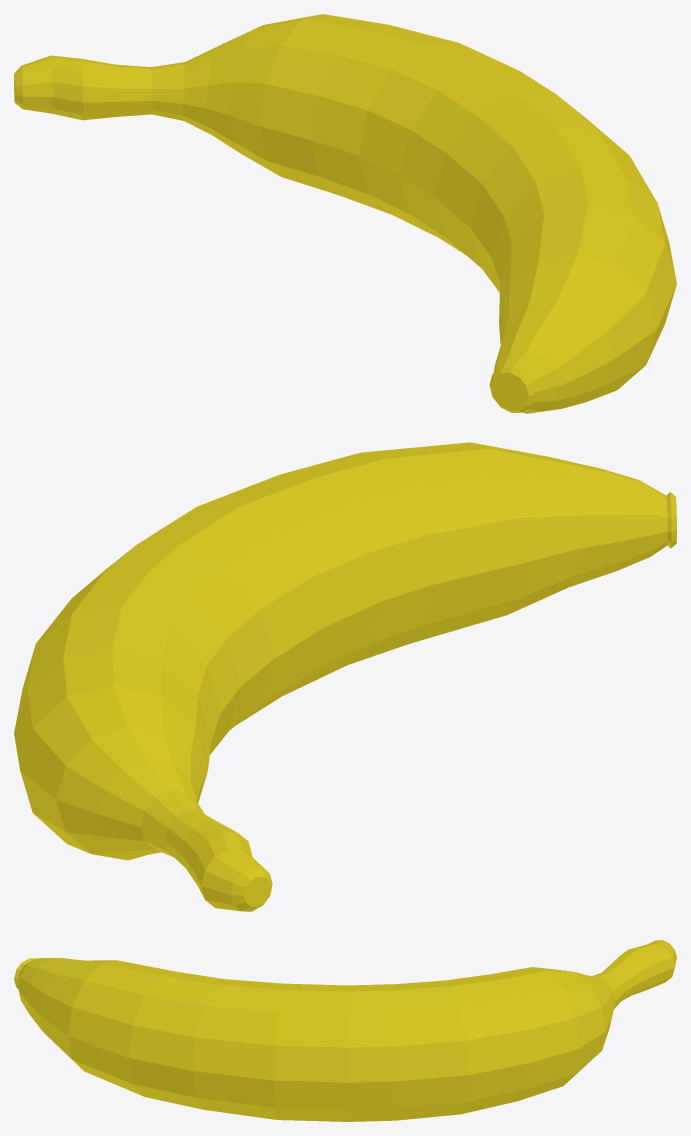
File: banana.gltf
The picture shows the model from 3 angles, top to bottom: view 1: azimuth 30°, elevation 25°; view 2: azimuth 150°, elevation 25°; view 3: azimuth 270°, elevation 25°; orthographic projection. The views are drawn at different scales.
Visible parts, largest first — view 1: Banana; view 2: Banana; view 3: Banana.
Boxes of the visible parts, x1,y1,x2,y2 form: Banana: (14, 14, 676, 413); Banana: (14, 442, 676, 911); Banana: (14, 940, 676, 1121).
Size of the model in its own units: 4.72 by 2.06 by 9.97.
